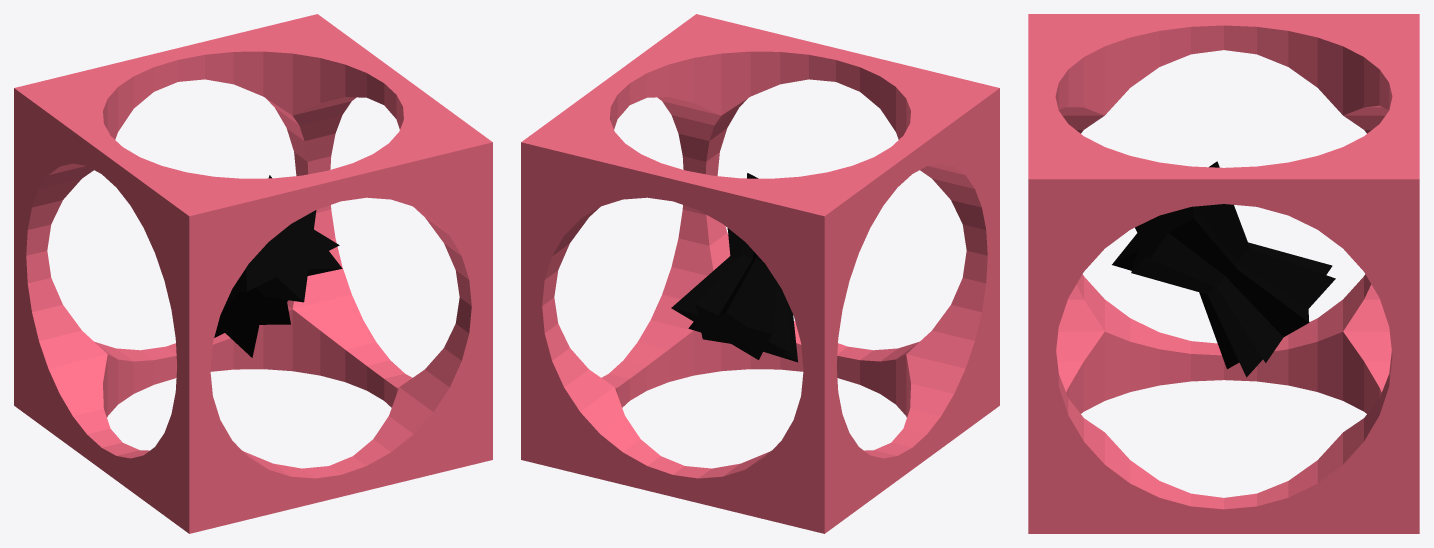
Rendered from cube cyl.fbx.
The picture shows the model from 3 angles, left to right: view 1: azimuth 30°, elevation 25°; view 2: azimuth 150°, elevation 25°; view 3: azimuth 270°, elevation 25°; orthographic projection. The views are drawn at different scales.
Visible parts, largest first — view 1: Cube.012, Plane; view 2: Cube.012, Plane; view 3: Cube.012, Plane.
Boxes of the visible parts, x1,y1,x2,y2 form: Cube.012: [14, 14, 492, 533]; Plane: [214, 175, 342, 357]; Cube.012: [521, 14, 999, 533]; Plane: [671, 173, 797, 362]; Cube.012: [1028, 14, 1419, 533]; Plane: [1112, 161, 1335, 377].
Size of the model in its own units: 74.4 by 74.4 by 74.4.
